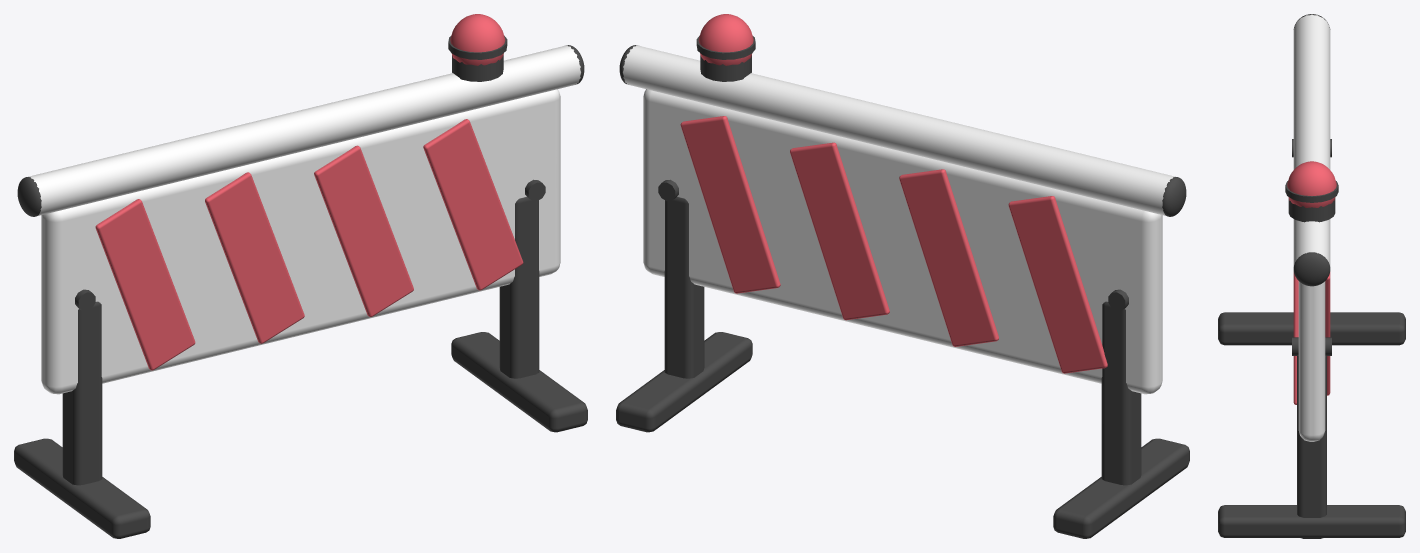
File: Barrier.glb
3 views of the same model, side by side, from view 1: azimuth 30°, elevation 25°; view 2: azimuth 150°, elevation 25°; view 3: azimuth 270°, elevation 25° (orthographic). The views are drawn at different scales.
Parts seen in each view (by area): view 1: Barrier; view 2: Barrier; view 3: Barrier.
Part boxes in pixels (x1,y1,x2,y2): Barrier: (14,14,587,538); Barrier: (616,14,1189,538); Barrier: (1218,14,1405,538).
Bounding box in the file's own units: 1.73 × 1.16 × 0.56.
